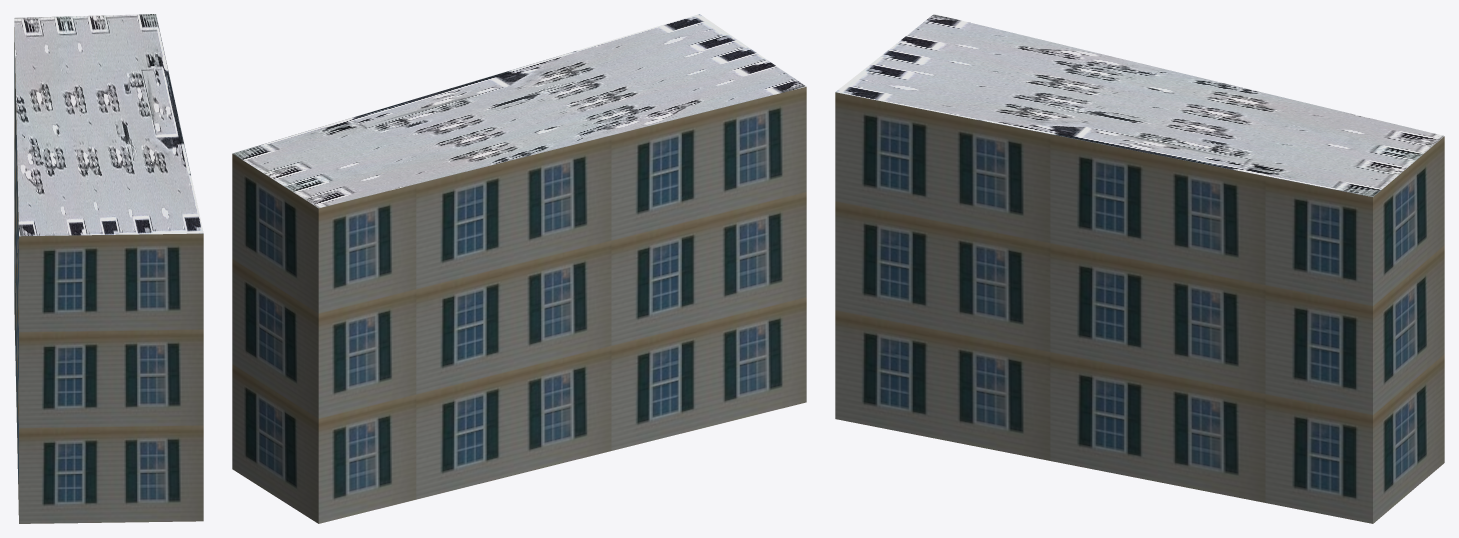
The model's file is ResTex__1123.fbx.
The picture shows the model from 3 angles, left to right: view 1: azimuth 30°, elevation 25°; view 2: azimuth 150°, elevation 25°; view 3: azimuth 270°, elevation 25°; orthographic projection. The views are drawn at different scales.
Parts seen in each view (by area): view 1: CityEngineMaterial_7_m, CityEngineMaterial_m; view 2: CityEngineMaterial_7_m, CityEngineMaterial_m; view 3: CityEngineMaterial_7_m, CityEngineMaterial_m.
Boxes of the visible parts, <box> form: CityEngineMaterial_7_m: <box>14,27,203,523</box>; CityEngineMaterial_m: <box>14,14,203,236</box>; CityEngineMaterial_7_m: <box>232,87,806,523</box>; CityEngineMaterial_m: <box>232,14,806,208</box>; CityEngineMaterial_7_m: <box>835,92,1444,523</box>; CityEngineMaterial_m: <box>835,14,1444,196</box>.
Size of the model in its own units: 10.82 by 9 by 15.21.
Materials: 2 (2 with a texture image).
